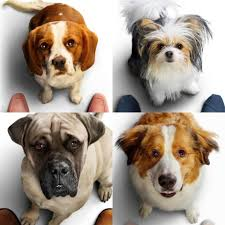dog: (112, 108, 219, 208), (4, 110, 107, 199), (128, 13, 212, 83), (20, 20, 95, 88)
